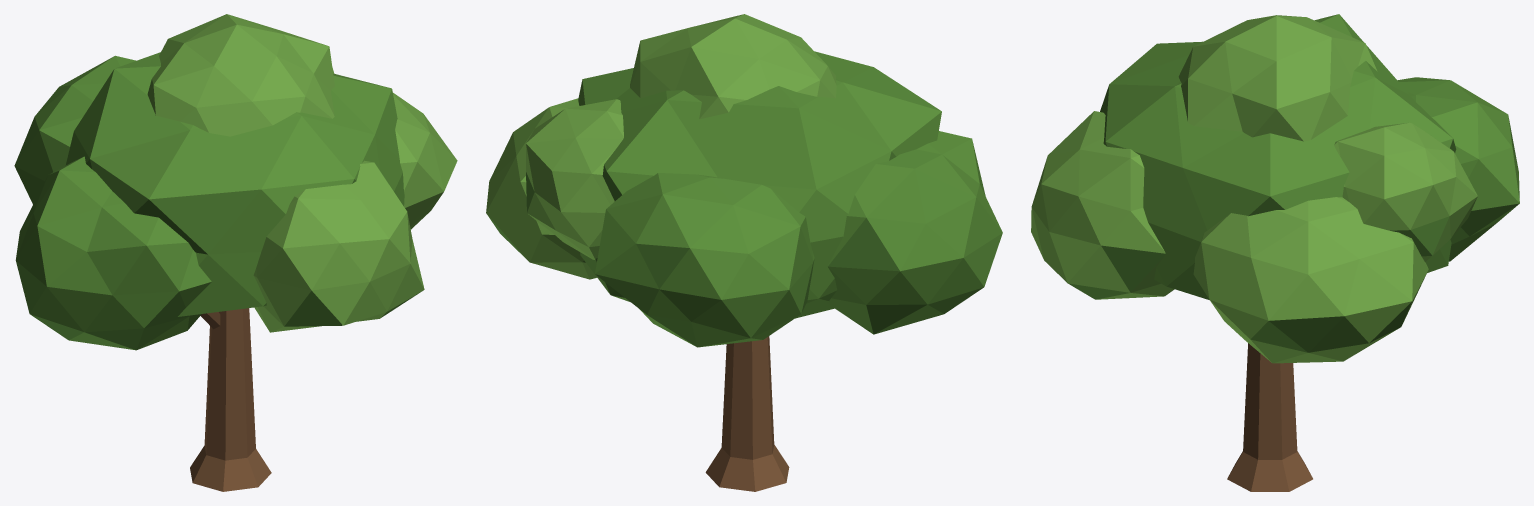
Rendered from tree_oak.glb.
3 renders of one model, left to right at view 1: azimuth 30°, elevation 25°; view 2: azimuth 150°, elevation 25°; view 3: azimuth 270°, elevation 25°, orthographic. The views are drawn at different scales.
Visible parts, largest first — view 1: tree_oak; view 2: tree_oak; view 3: tree_oak.
Boxes of the visible parts, bbox=[...] form: tree_oak: bbox=[14, 14, 457, 491]; tree_oak: bbox=[486, 14, 1002, 491]; tree_oak: bbox=[1031, 14, 1519, 491].
Bounding box in the file's own units: 8.42 × 8.08 × 7.71.
